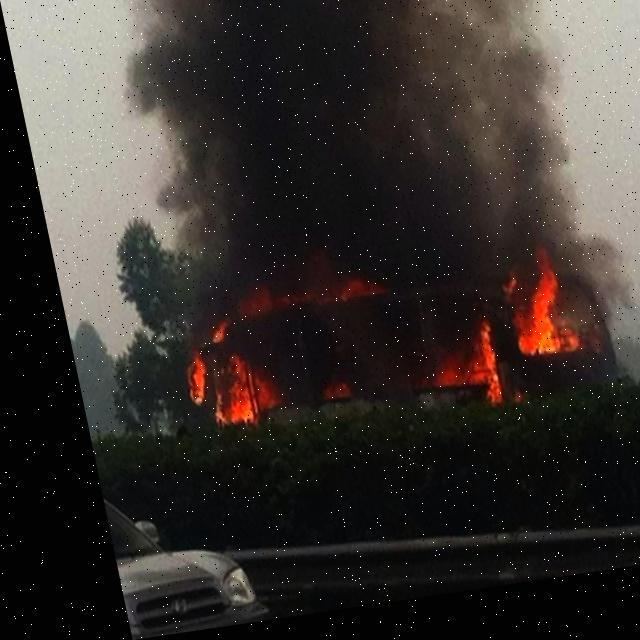Fire: (150, 241, 588, 449)
